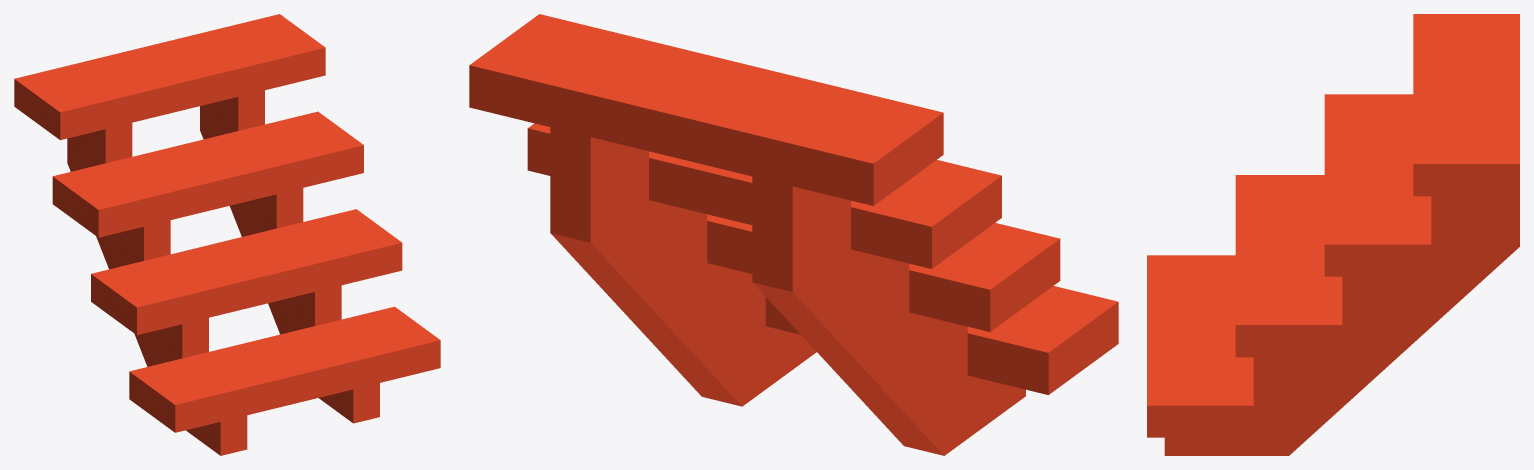
File: SM_Stairs_Wood_Regular_1m_Bottom.fbx
3 views of the same model, side by side, from view 1: azimuth 30°, elevation 25°; view 2: azimuth 150°, elevation 25°; view 3: azimuth 270°, elevation 25° (orthographic). The views are drawn at different scales.
Visible parts, largest first — view 1: stairs-wood-regular-1m-bottom; view 2: stairs-wood-regular-1m-bottom; view 3: stairs-wood-regular-1m-bottom.
Boxes of the visible parts, x1,y1,x2,y2 form: stairs-wood-regular-1m-bottom: (14, 14, 440, 455); stairs-wood-regular-1m-bottom: (469, 14, 1118, 455); stairs-wood-regular-1m-bottom: (1147, 14, 1519, 455).
Size of the model in its own units: 1 by 1 by 1.05.
